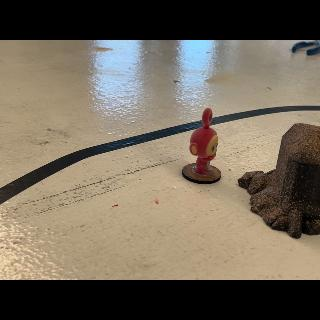teletubby: (189, 108, 218, 175)
